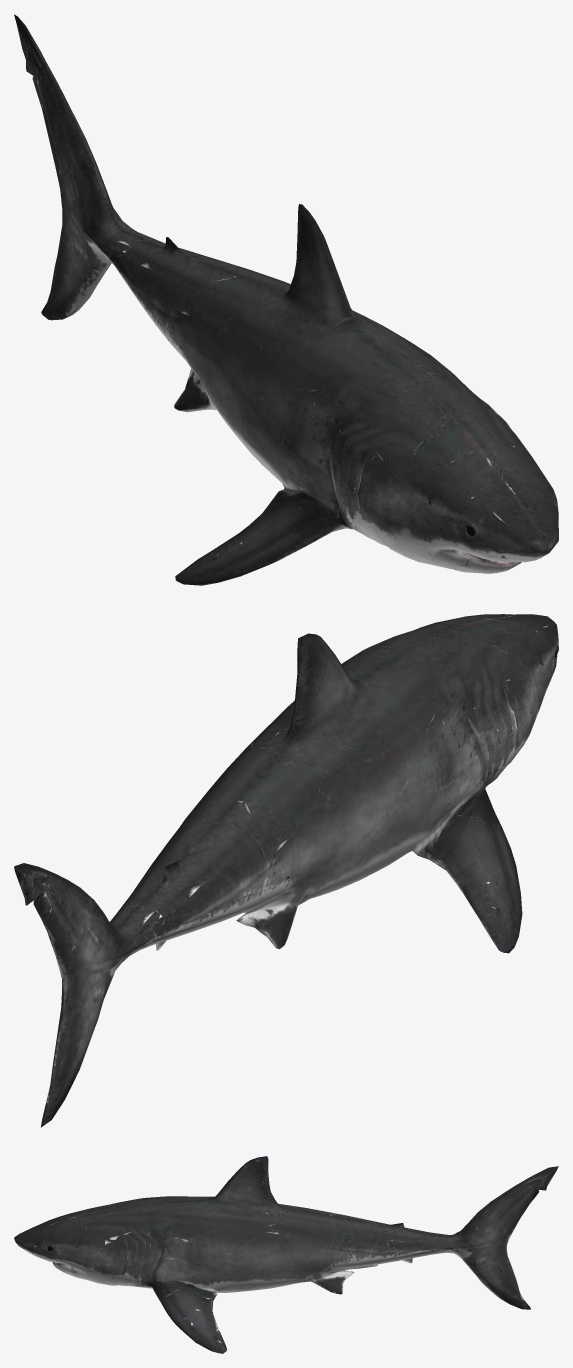
Rendered from weisser_hai.glb.
The picture shows the model from 3 angles, top to bottom: view 1: azimuth 30°, elevation 25°; view 2: azimuth 150°, elevation 25°; view 3: azimuth 270°, elevation 25°; orthographic projection. The views are drawn at different scales.
Bounding box in the file's own units: 0.6885 × 0.6004 × 1.9.
1 material, 1 textured.
